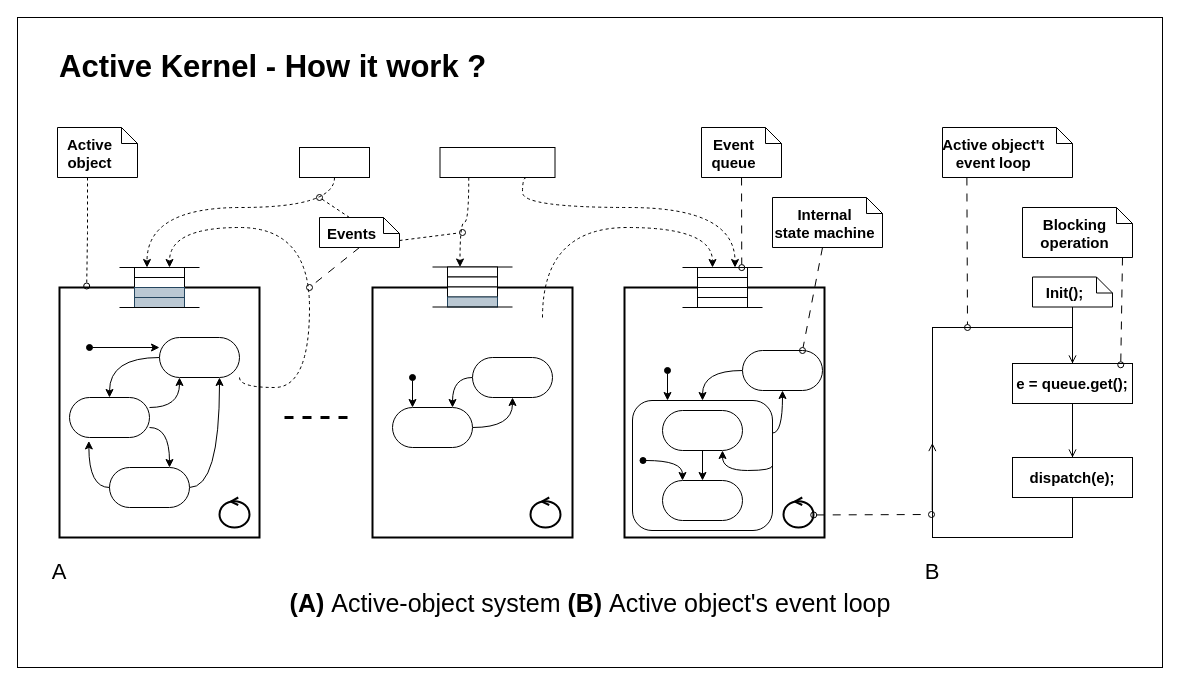
Some shapes in this 1180 by 685 pixel diagram are drawn without their labels. Here are the shapes that lost their labels. From the top down, the box of each, then its label:
(298, 146, 370, 178): HAL
(439, 146, 555, 178): Cloud Request
